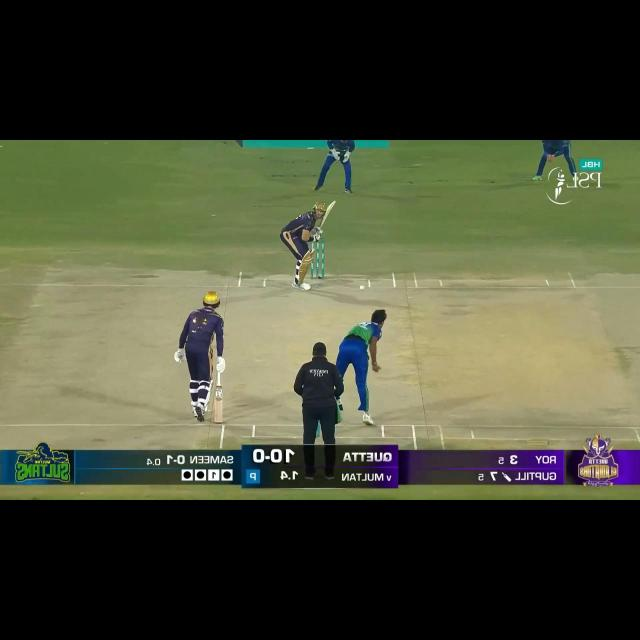bat: (318, 201, 337, 229), (212, 386, 224, 423)
toe: (212, 418, 223, 423), (331, 200, 337, 205)
